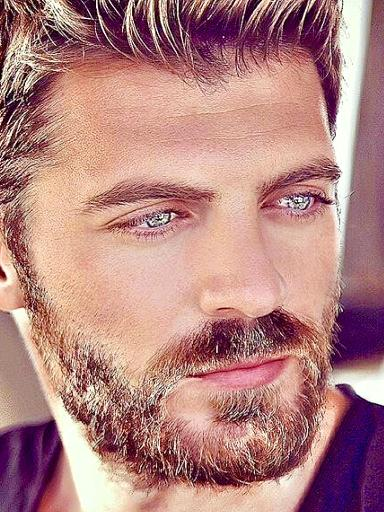left_eye: (261, 188, 338, 216)
left_lip_corner: (270, 349, 304, 374)
right_eye: (101, 202, 201, 241)
right_lip_corner: (182, 365, 215, 391)
